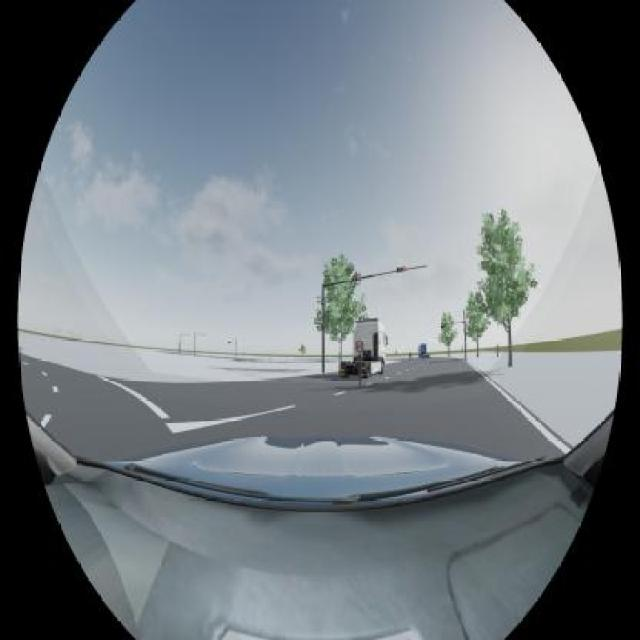forb_speed_over_60: (356, 339, 364, 352)
